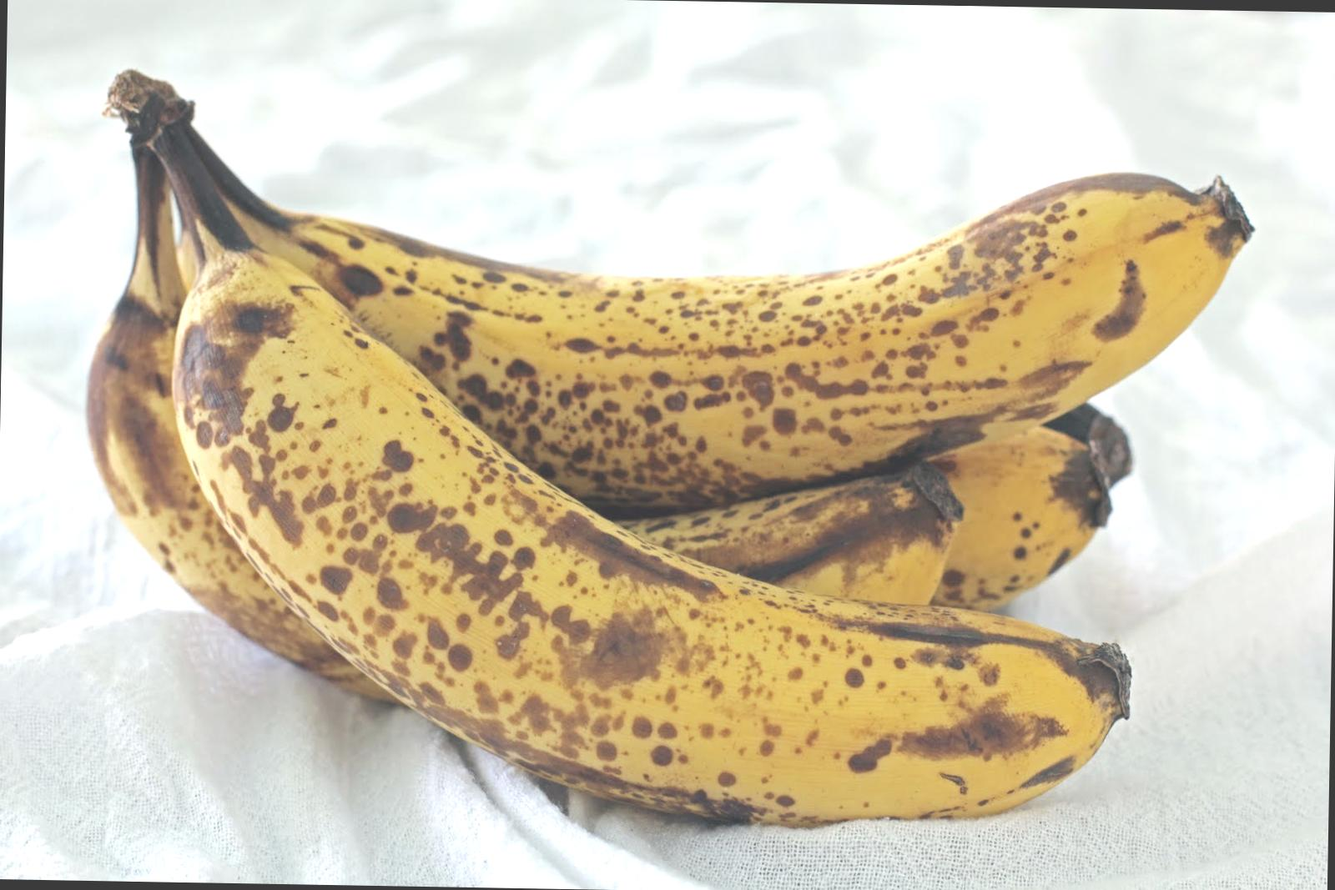Banana Unripe: (73, 67, 1268, 840)
